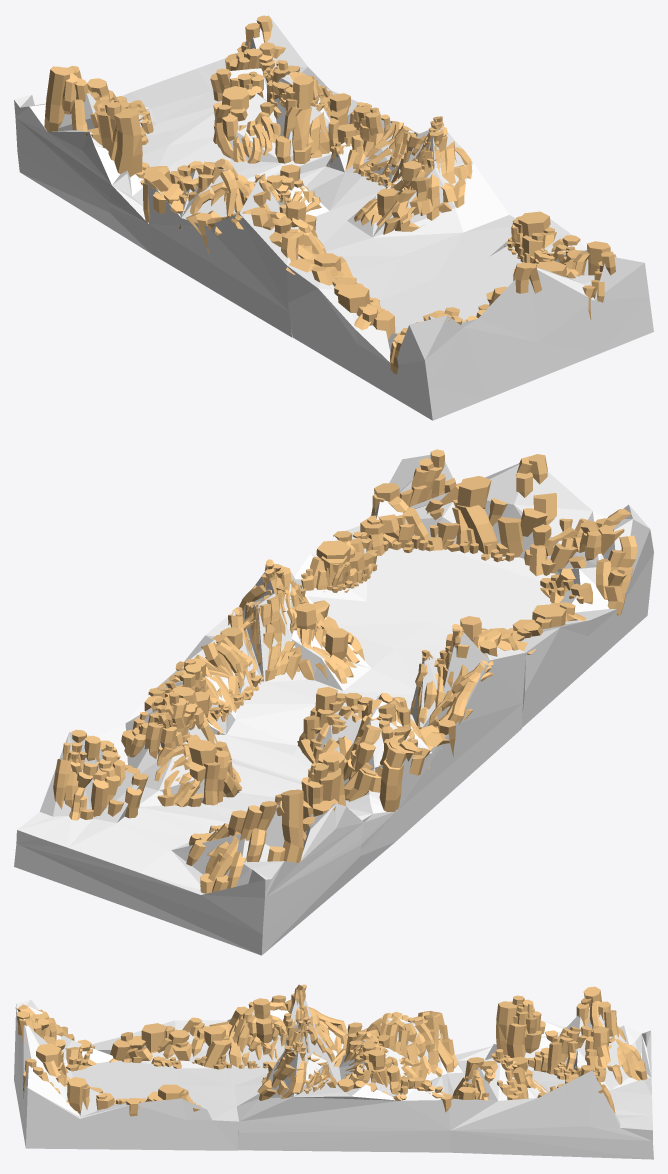
File: snow-2.glb
The picture shows the model from 3 angles, top to bottom: view 1: azimuth 30°, elevation 25°; view 2: azimuth 150°, elevation 25°; view 3: azimuth 270°, elevation 25°; orthographic projection. The views are drawn at different scales.
Parts seen in each view (by area): view 1: group1586283693, group1213442301, group103738613, group1232652771, group1173914348, group1517579395, group1020127045, group576018752, group1915387679, group1652834067, group423818086, group981096431 (+5 smaller); view 2: group103738613, group1586283693, group1213442301, group576018752, group854510486, group1652834067, group549770677, group1246920881, group1670661091, group1419796086, group1879629759, group109473454 (+3 smaller); view 3: group1586283693, group103738613, group1213442301, group693436099, group1232652771, group1173914348, group1246920881, group228751832, group1915387679, group576018752, group423818086, group1419796086 (+18 smaller).
Boxes of the visible parts, bbox=[...] form: group1586283693: bbox=[286, 215, 653, 420]; group1213442301: bbox=[146, 114, 509, 337]; group103738613: bbox=[14, 14, 358, 253]; group1232652771: bbox=[391, 135, 467, 223]; group1173914348: bbox=[114, 108, 142, 177]; group1517579395: bbox=[233, 112, 280, 163]; group1020127045: bbox=[250, 207, 324, 261]; group576018752: bbox=[328, 102, 383, 167]; group1915387679: bbox=[383, 137, 472, 234]; group1652834067: bbox=[44, 66, 70, 131]; group423818086: bbox=[337, 284, 370, 312]; group981096431: bbox=[153, 183, 185, 213]; group103738613: bbox=[14, 695, 397, 955]; group1586283693: bbox=[294, 455, 653, 727]; group1213442301: bbox=[157, 572, 525, 841]; group576018752: bbox=[148, 658, 229, 734]; group854510486: bbox=[154, 743, 200, 807]; group1652834067: bbox=[282, 789, 303, 862]; group549770677: bbox=[144, 701, 197, 758]; group1246920881: bbox=[303, 693, 373, 740]; group1670661091: bbox=[457, 505, 497, 553]; group1419796086: bbox=[344, 762, 382, 801]; group1879629759: bbox=[379, 758, 404, 811]; group109473454: bbox=[548, 568, 592, 604]; group1586283693: bbox=[14, 999, 238, 1150]; group103738613: bbox=[441, 1006, 653, 1159]; group1213442301: bbox=[227, 998, 450, 1152]; group693436099: bbox=[546, 1025, 593, 1074]; group1232652771: bbox=[257, 1054, 303, 1096]; group1173914348: bbox=[496, 1001, 517, 1055]; group1246920881: bbox=[355, 1041, 399, 1083]; group228751832: bbox=[506, 1023, 526, 1057]; group1915387679: bbox=[259, 1060, 306, 1100]; group576018752: bbox=[400, 1077, 452, 1112]; group423818086: bbox=[141, 1023, 167, 1053]; group1419796086: bbox=[437, 1033, 458, 1072].
Size of the model in its own units: 1.72 by 1.01 by 4.39.
